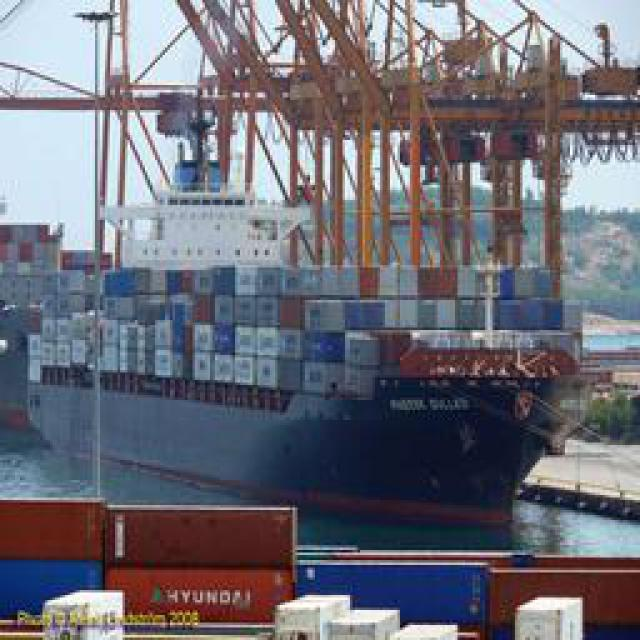Ship: (25, 241, 640, 520)
